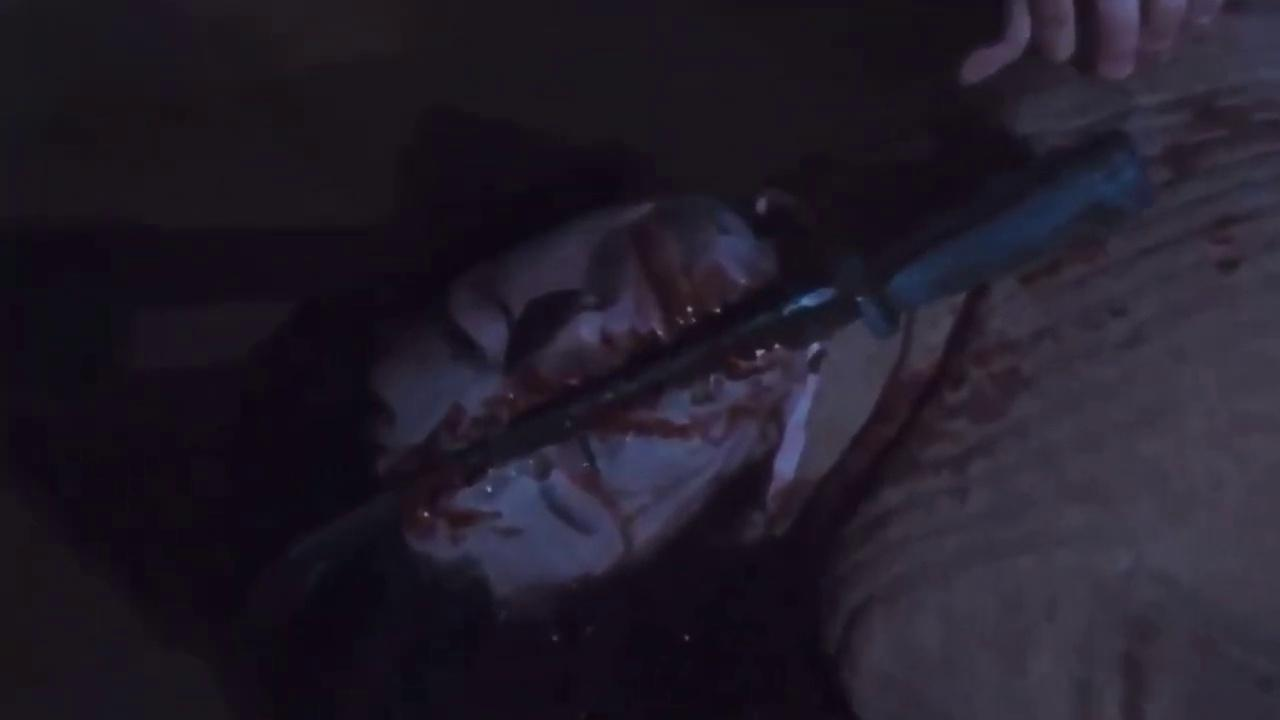Fire: (375, 195, 776, 474), (404, 340, 825, 592)
